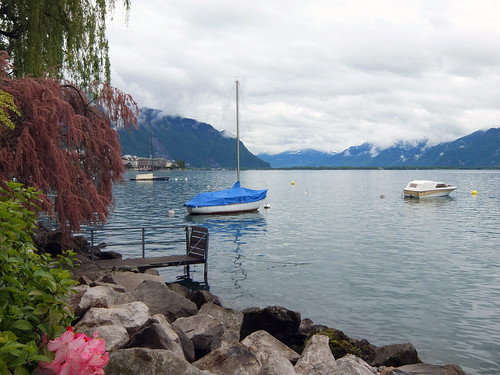boat: (182, 182, 275, 217), (397, 174, 463, 201)
mountain: (134, 97, 270, 156), (344, 115, 500, 156)
river: (109, 168, 500, 358)
rocks: (59, 256, 419, 375)
sky: (134, 1, 500, 122)
vegetation: (1, 1, 119, 375)
